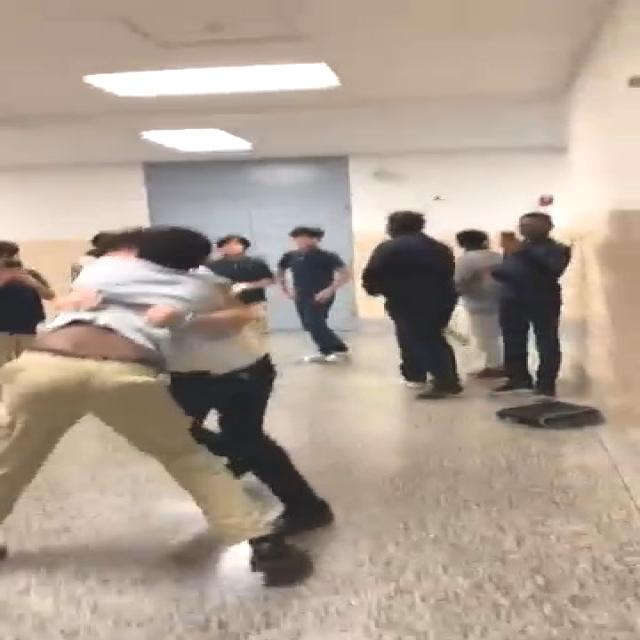fight: (0, 224, 338, 573)
